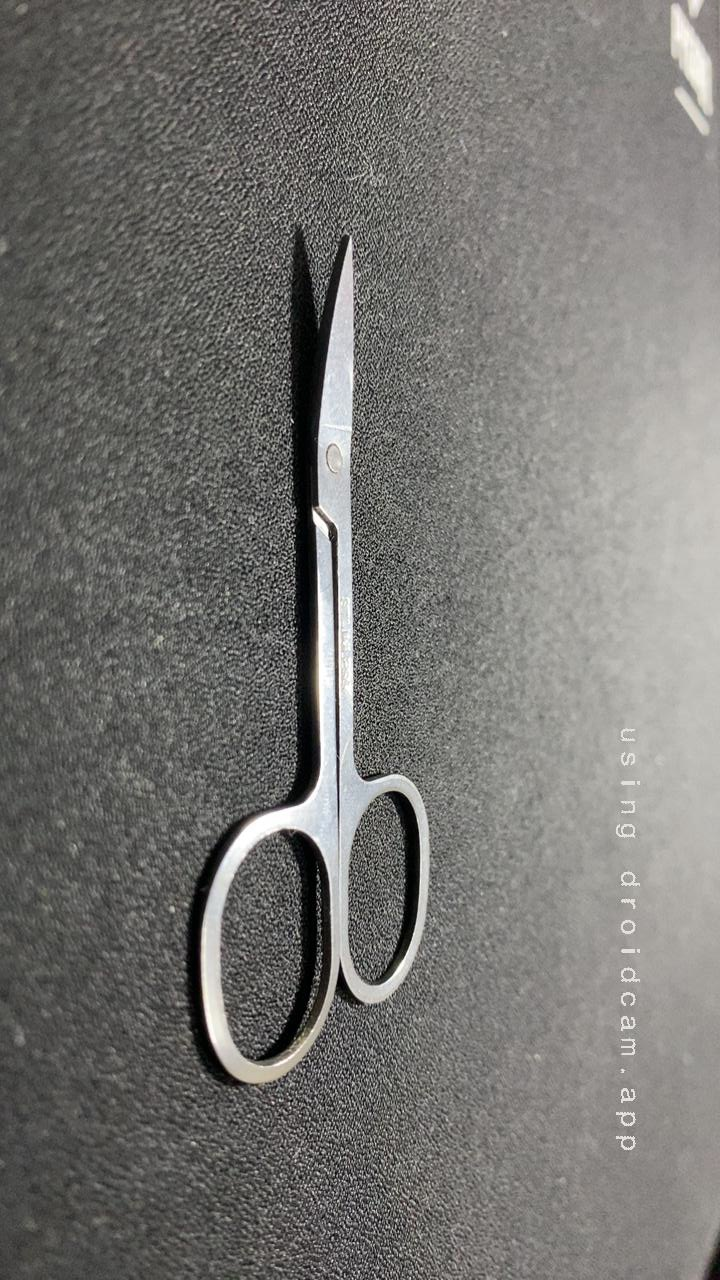scissor: (128, 546, 476, 1089)
